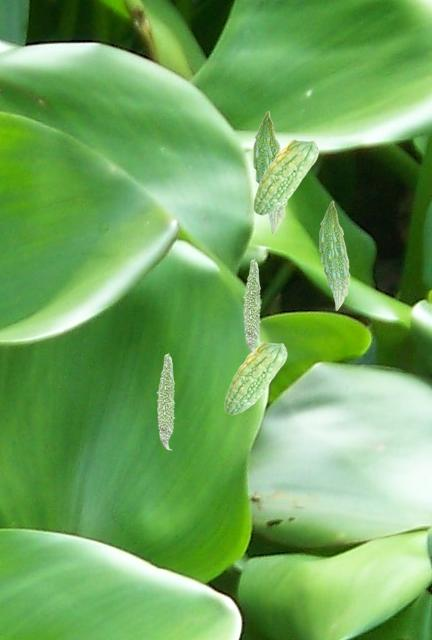ampalaya: (253, 138, 319, 216), (224, 341, 287, 415), (252, 110, 287, 234), (318, 200, 350, 311), (156, 352, 175, 450), (242, 258, 261, 353)
